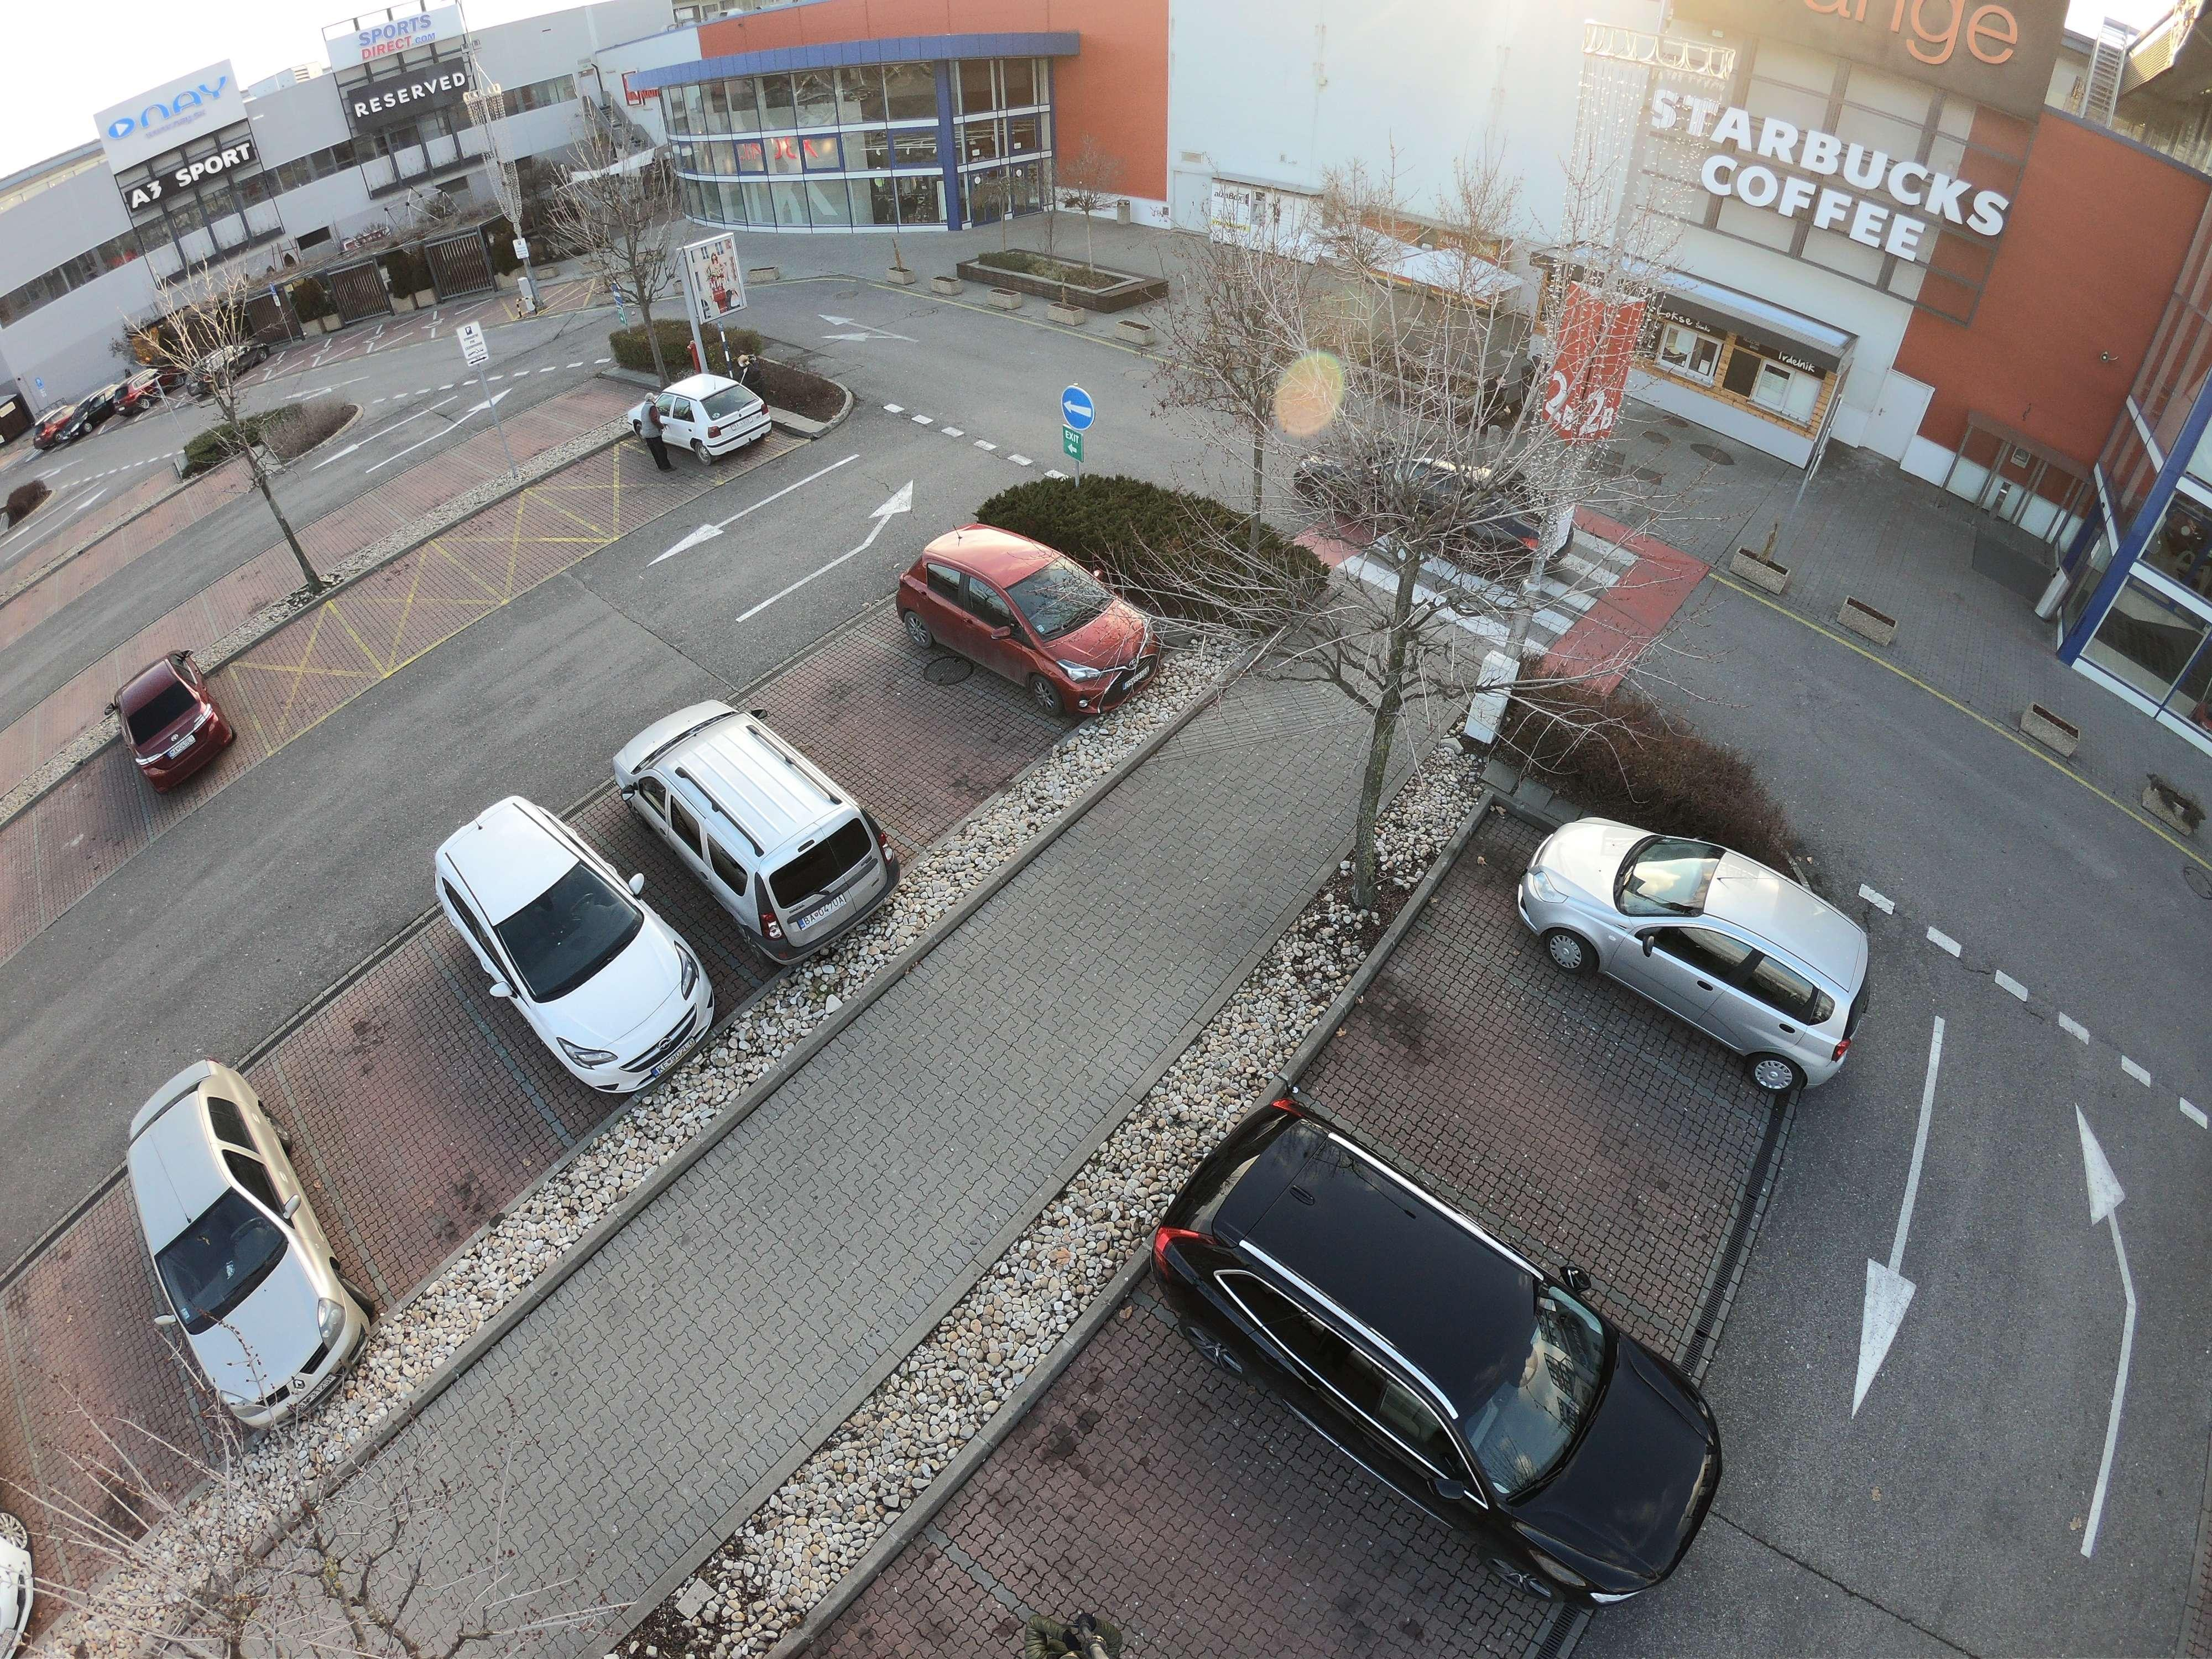empty: (1130, 1155, 1717, 1575), (1527, 814, 1881, 1077), (418, 779, 714, 1091), (120, 1046, 368, 1412), (613, 699, 894, 958), (895, 540, 1153, 702), (111, 664, 240, 784), (636, 373, 777, 474), (747, 362, 855, 434), (40, 399, 111, 451)
occupied: (1094, 1471, 1392, 1654), (298, 995, 512, 1206), (1423, 1056, 1665, 1209), (840, 681, 991, 775), (33, 760, 124, 890), (467, 484, 559, 594), (254, 633, 354, 725), (357, 556, 460, 645), (570, 451, 639, 532), (759, 504, 855, 552)
